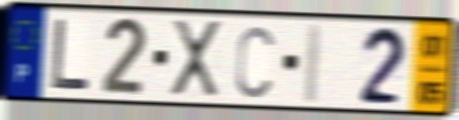2: (354, 22, 411, 109), (99, 15, 151, 99)
C: (233, 22, 276, 100)
I: (300, 20, 326, 106)
L: (49, 16, 94, 92)
X: (170, 17, 223, 100)
